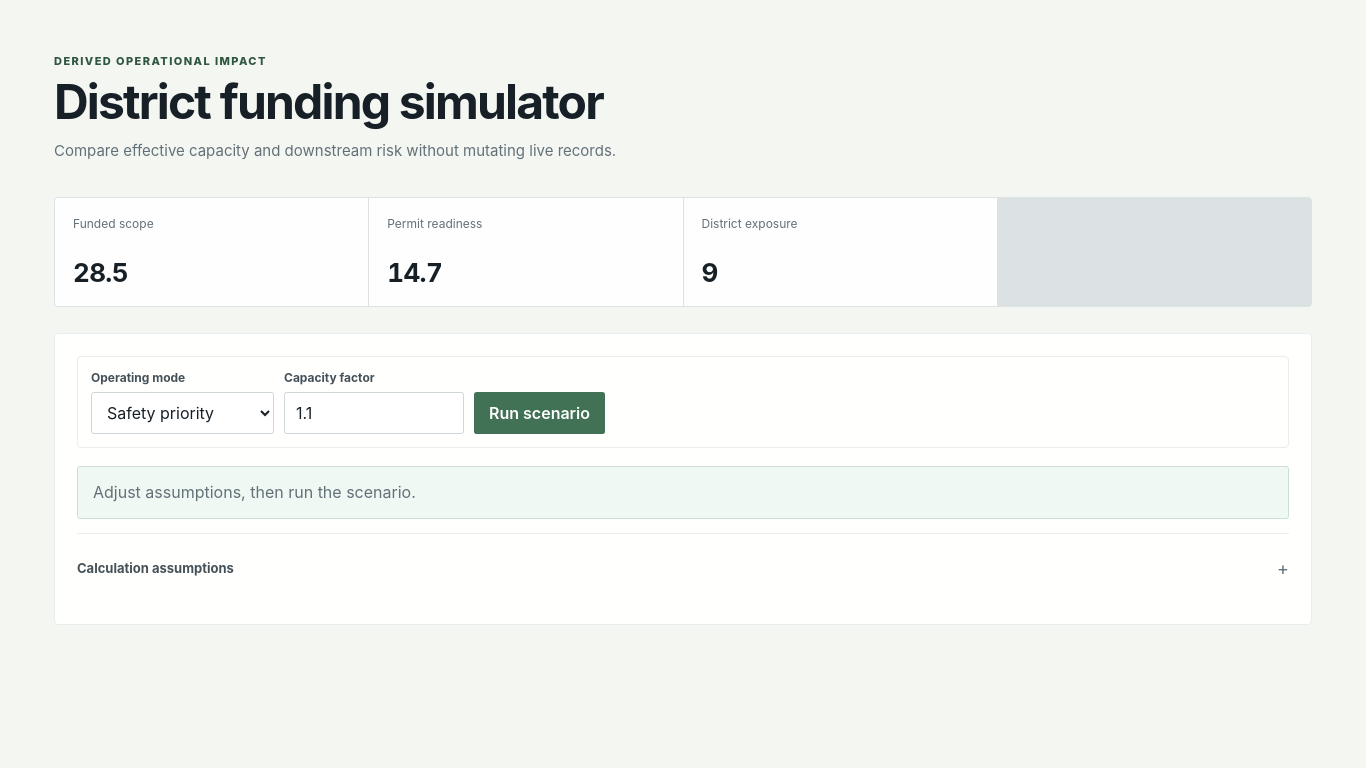
it: CivicWorks connected surfaces › runs a deterministic scenario asynchronously
Click the button "Run scenario". click: (540, 413)
box: [474,392,605,434]
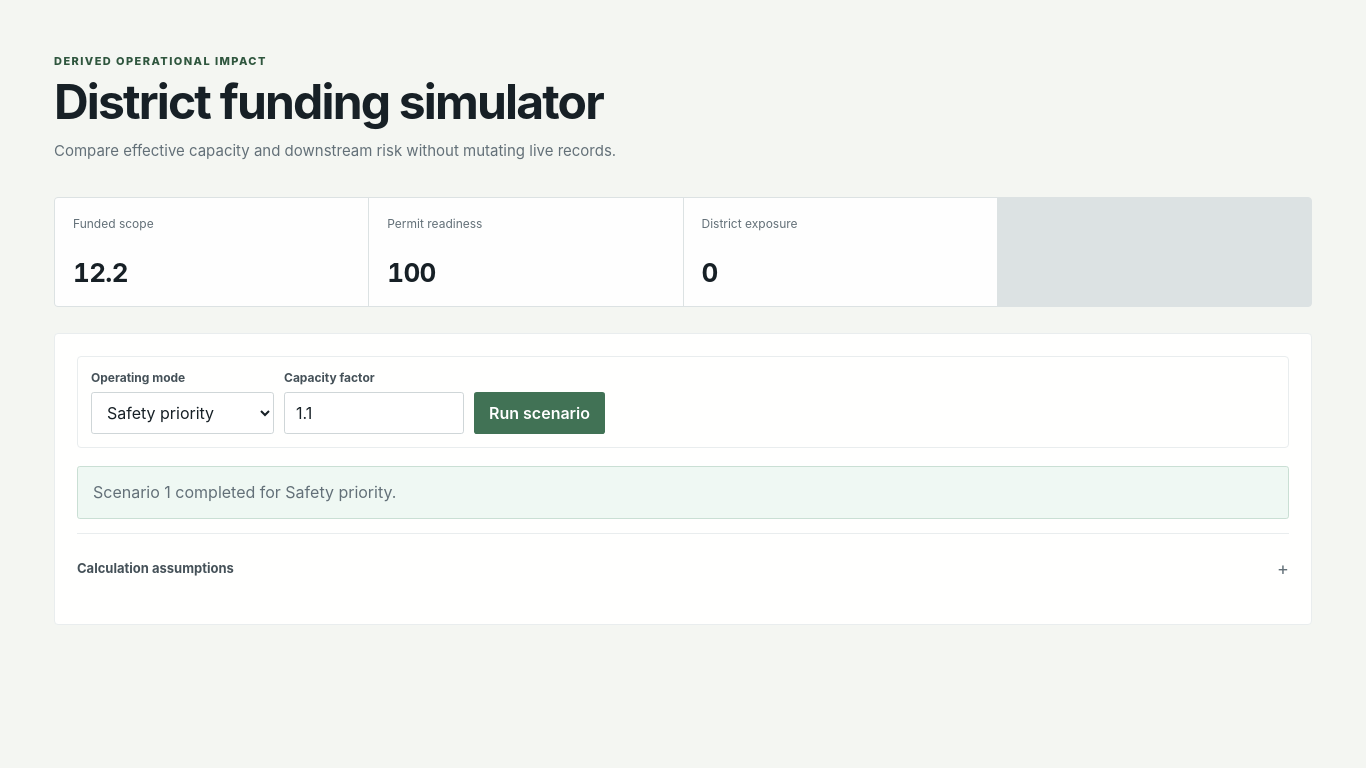
Result: the message shows "completed" at [93,482,396,502]
